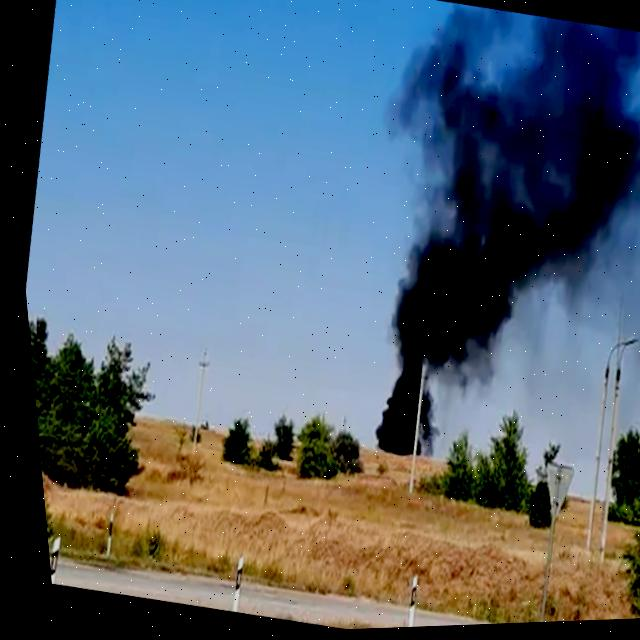Smoke: (334, 0, 640, 488)
